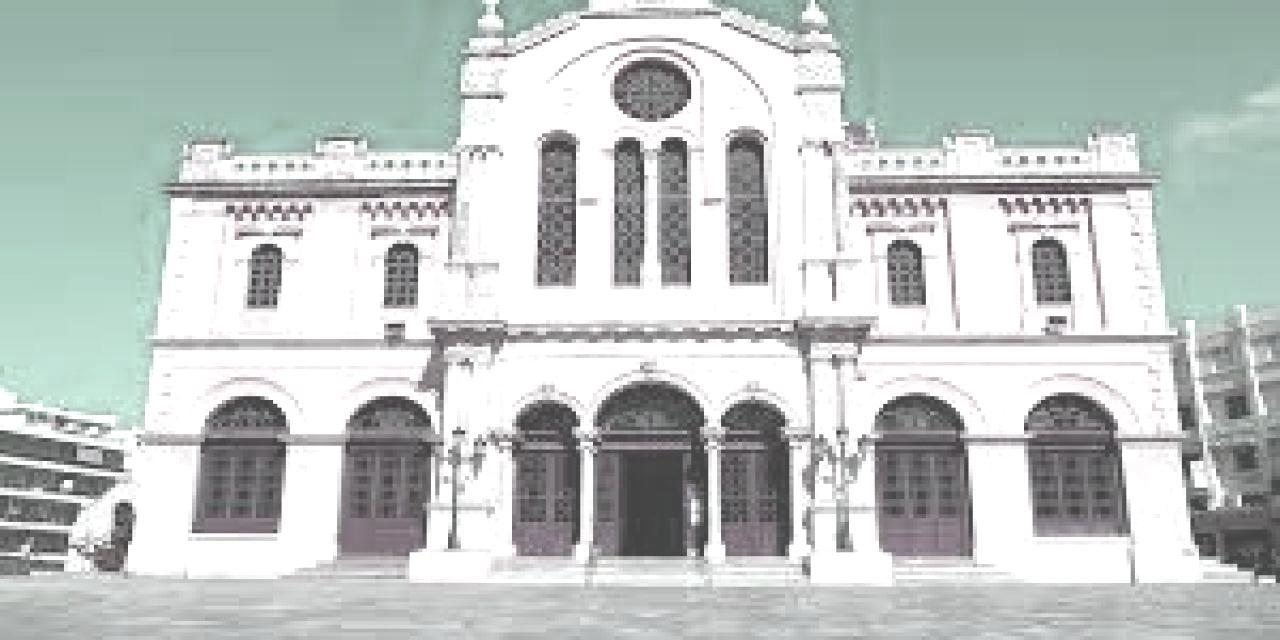Agios Minas: (119, 2, 1209, 589)
